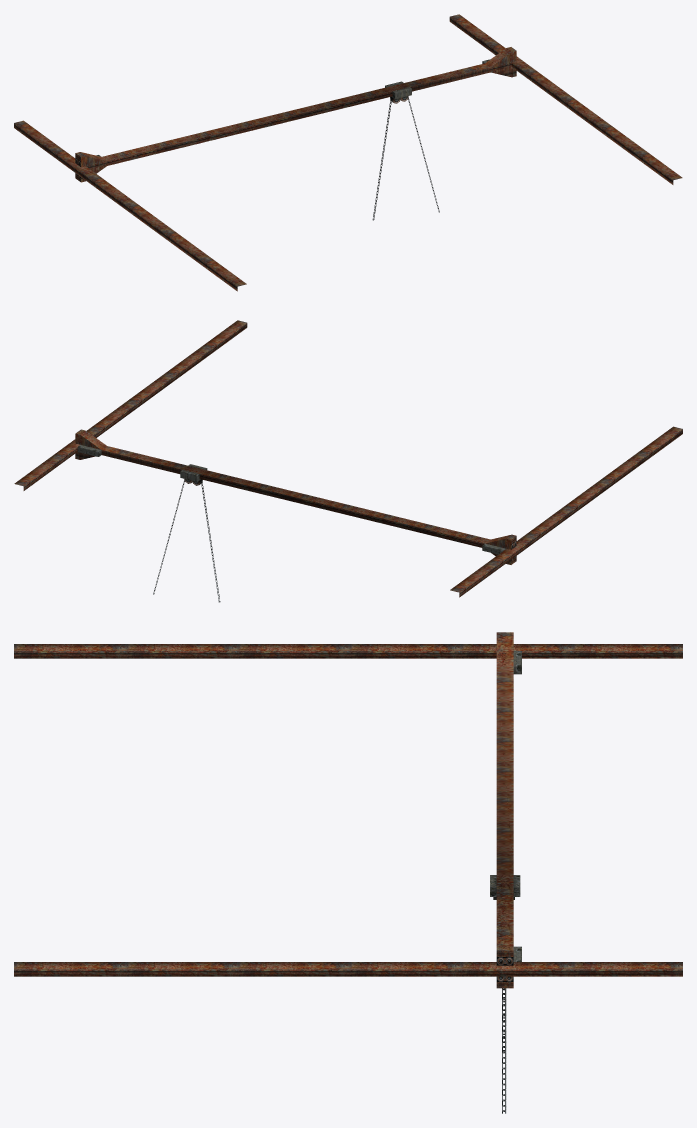
File: M11B_MissileCrane01.glb
3 views of the same model, one above another, from view 1: azimuth 30°, elevation 25°; view 2: azimuth 150°, elevation 25°; view 3: azimuth 270°, elevation 25° (orthographic). The views are drawn at different scales.
Visible parts, largest first — view 1: M11B_MISSILECRANE01; view 2: M11B_MISSILECRANE01; view 3: M11B_MISSILECRANE01.
Part boxes in pixels (bbox=[...]): M11B_MISSILECRANE01: bbox=[14, 14, 682, 291]; M11B_MISSILECRANE01: bbox=[14, 320, 682, 602]; M11B_MISSILECRANE01: bbox=[14, 632, 682, 1113].
Bounding box in the file's own units: 23 × 7.18 × 20.
2 materials, 2 textured.
